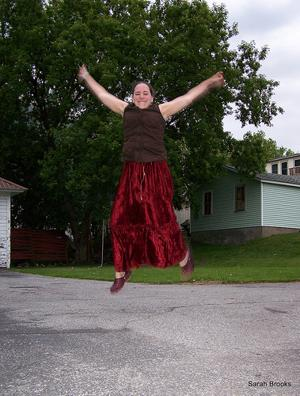person: (79, 60, 223, 295)
